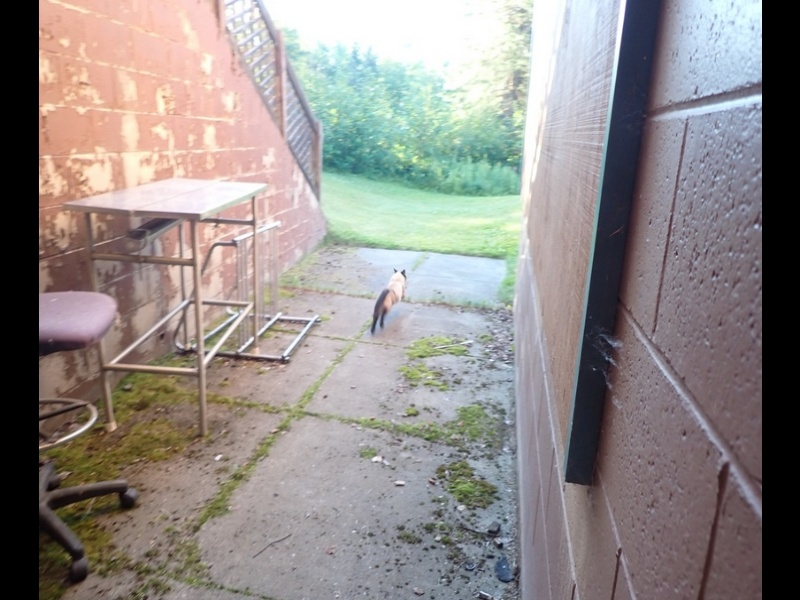cat: (369, 263, 411, 337)
